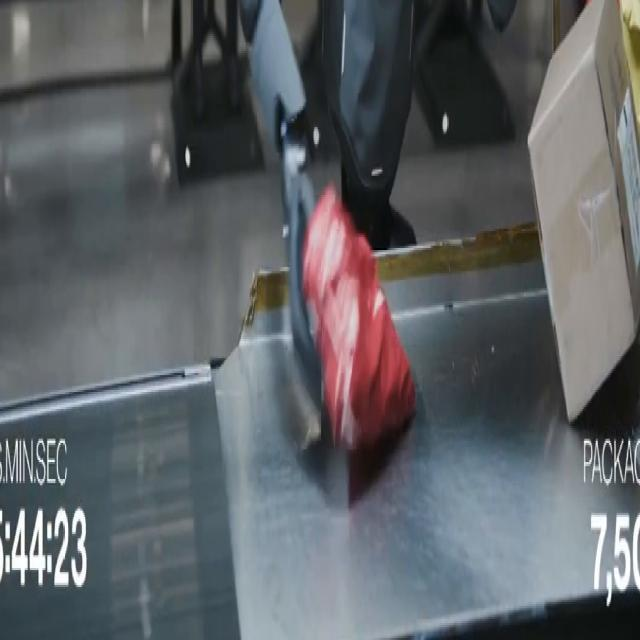package: (528, 0, 639, 419), (303, 187, 415, 449), (620, 0, 639, 125)
